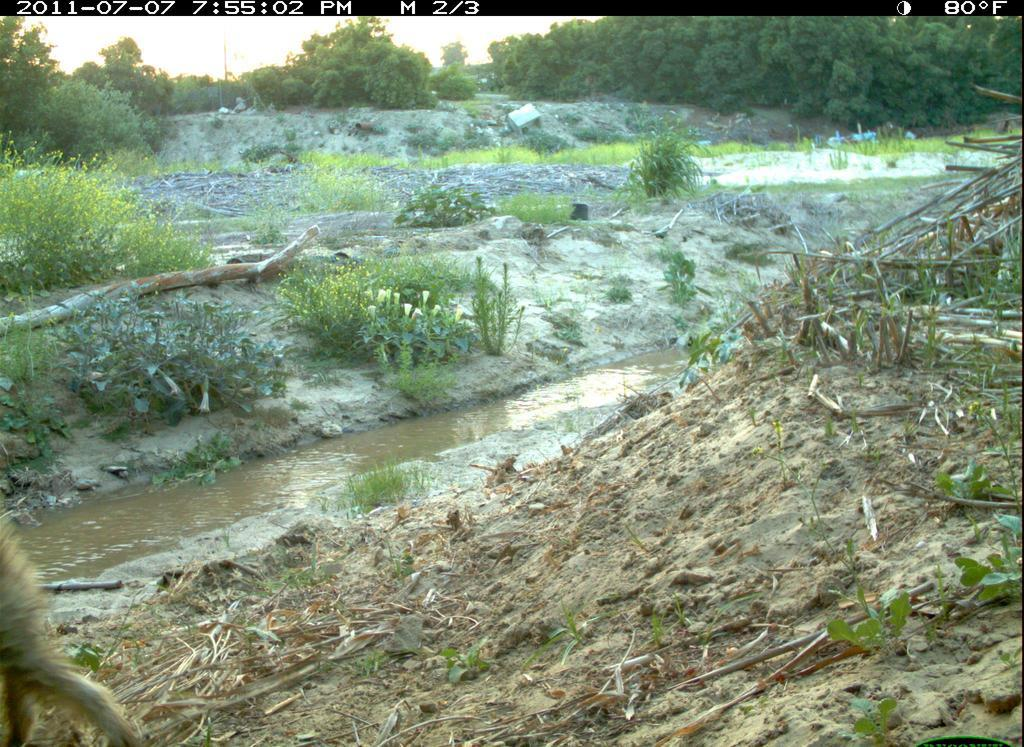dog: (4, 484, 159, 747)
